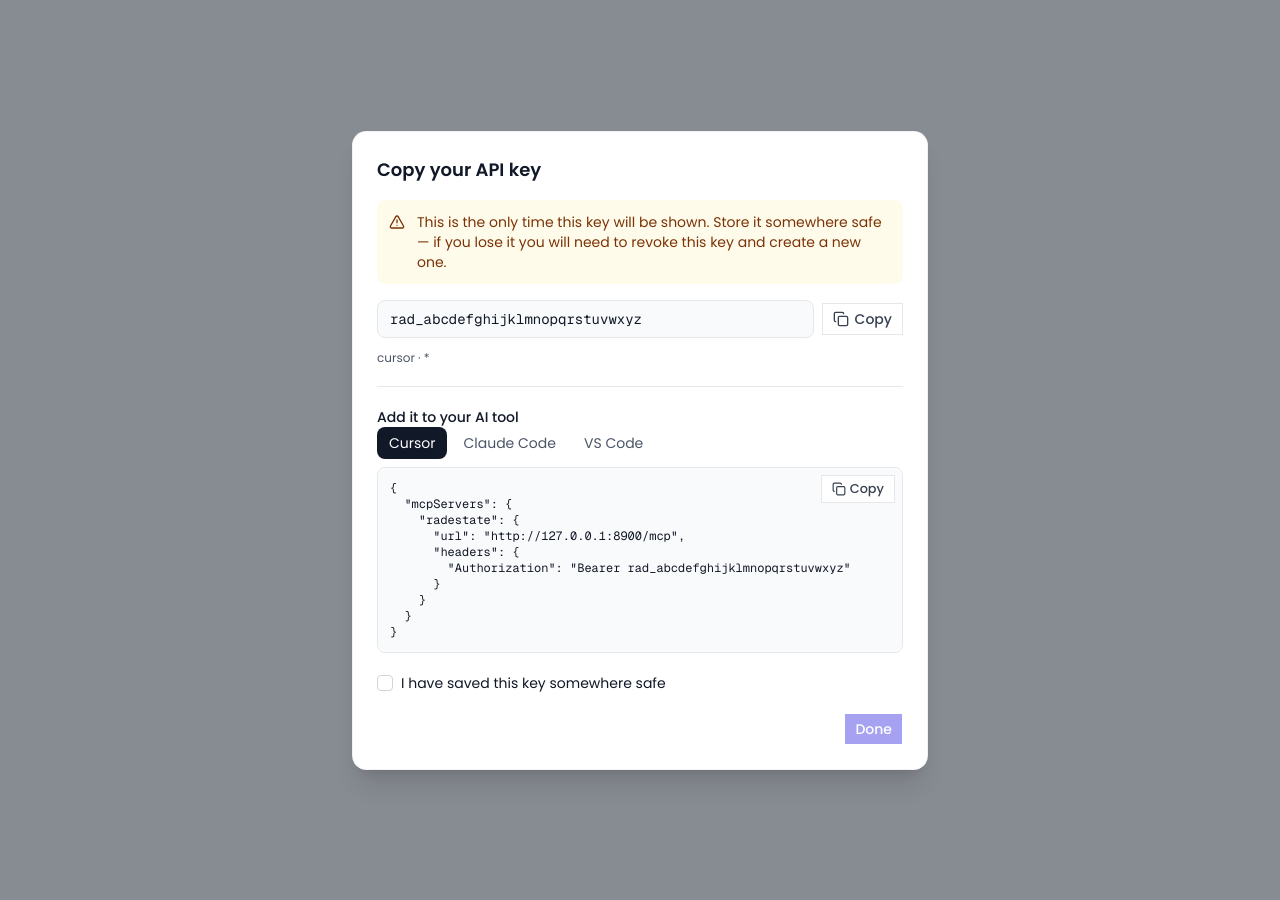
Test: ApiKeyCreatedDialog › copies the key to the clipboard
This screenshot has width=1280, height=900.
Click the button with aria-label "copy api key" at (862, 318), box [822,302,903,334]
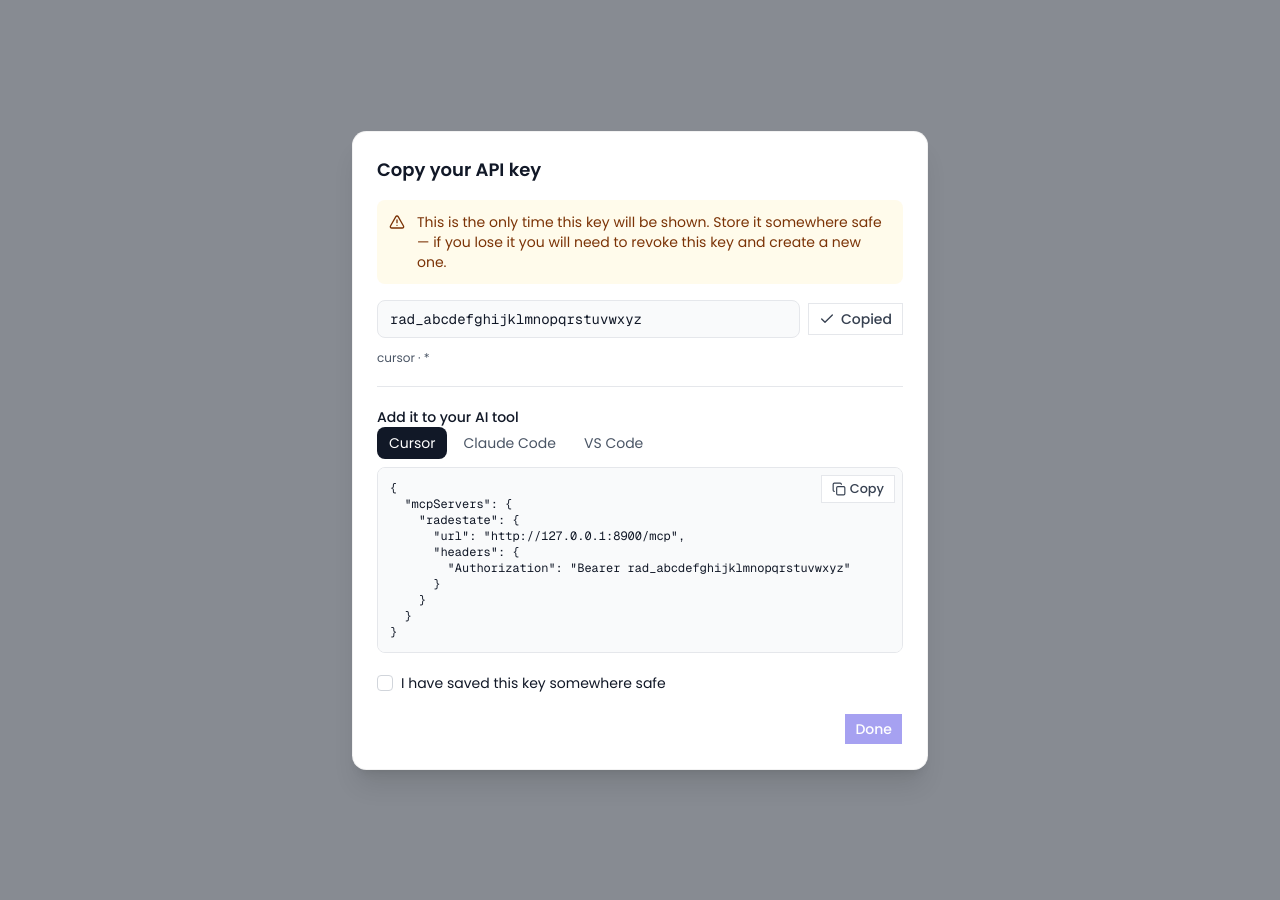
expect the button with aria-label "api key copied" is shown: met, box [808,302,903,334]
